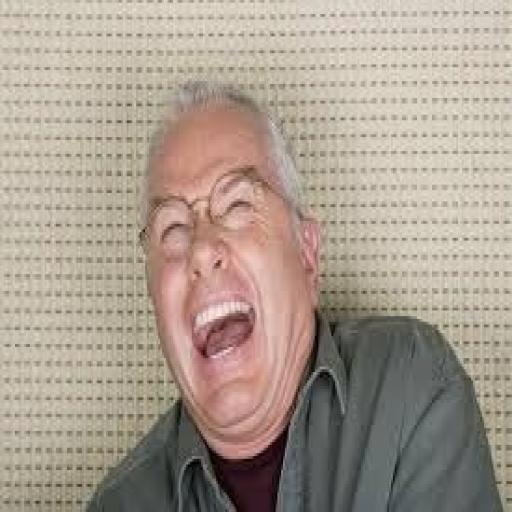laughing: (64, 64, 508, 510)
